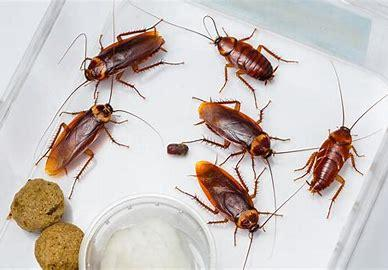cockroach: (295, 78, 377, 212), (41, 91, 131, 199), (179, 12, 299, 87), (170, 152, 274, 238), (182, 90, 285, 171), (53, 21, 171, 91)
